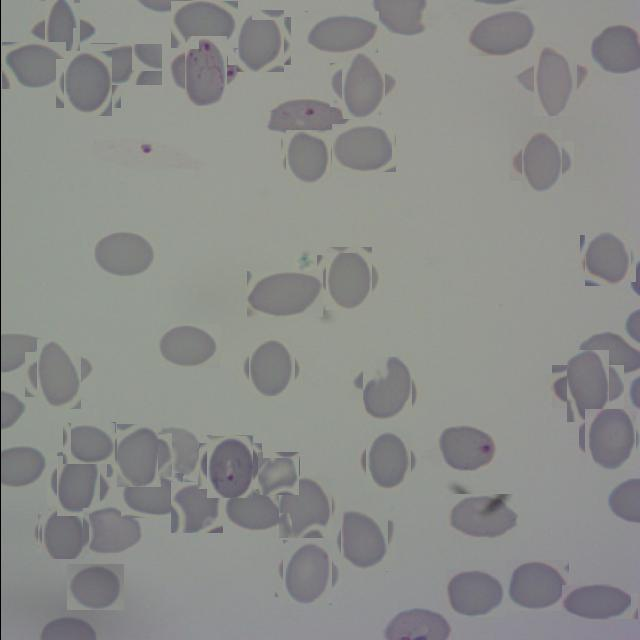leukocyte: (246, 271, 322, 317), (525, 50, 584, 109), (276, 478, 334, 536), (558, 358, 616, 416), (29, 346, 88, 403), (446, 494, 518, 540), (278, 544, 336, 601), (467, 9, 537, 56), (504, 560, 568, 611), (59, 55, 116, 112), (170, 1, 237, 49), (331, 123, 396, 172), (335, 57, 391, 113), (320, 250, 376, 306), (581, 412, 637, 468), (91, 230, 156, 278), (304, 12, 378, 54), (230, 13, 286, 68), (358, 361, 414, 416), (444, 568, 506, 617), (90, 44, 162, 86), (1, 42, 65, 89), (336, 514, 391, 568), (360, 434, 414, 488), (51, 458, 105, 512), (244, 342, 298, 396), (111, 428, 165, 482), (82, 508, 142, 555), (514, 134, 566, 188), (120, 473, 182, 518), (66, 563, 124, 610), (222, 489, 285, 532), (581, 232, 633, 284), (36, 5, 88, 57), (561, 584, 638, 619), (170, 482, 222, 533), (160, 324, 219, 368), (282, 132, 332, 182), (62, 422, 115, 464), (39, 510, 86, 557), (156, 429, 198, 476), (256, 452, 298, 494)
red blood cell: (177, 44, 233, 100), (201, 438, 256, 494)
